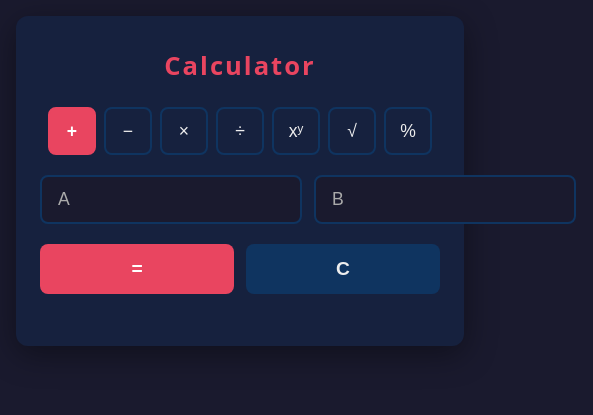
Test: Calculator › validates empty input B for binary ops
The width and height of the screenshot is (593, 415).
Type "5" into the number field named "operand-a" at (171, 200), box [40,175,302,224]
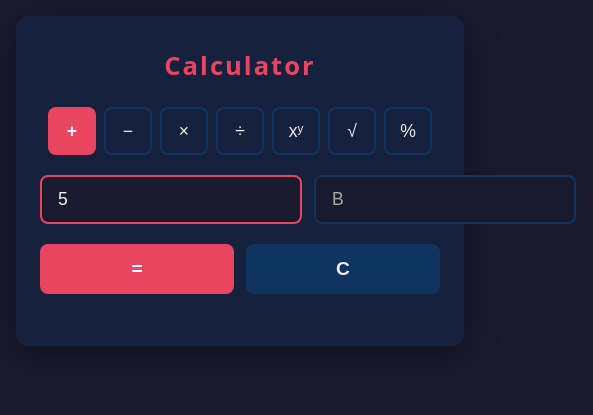
Click the button "=" at (137, 269), box [40,244,234,294]
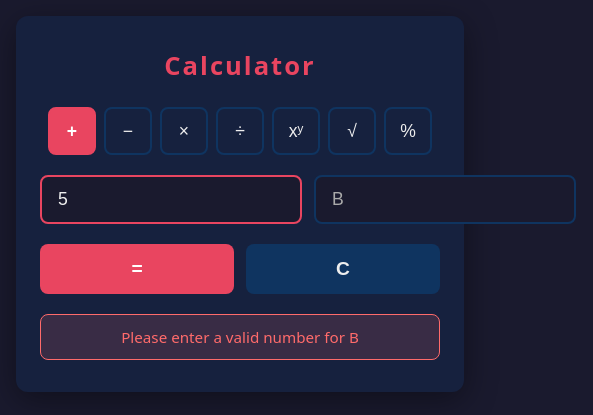
expect the message reads "Please enter a valid number for B": met, box [121,327,359,347]
